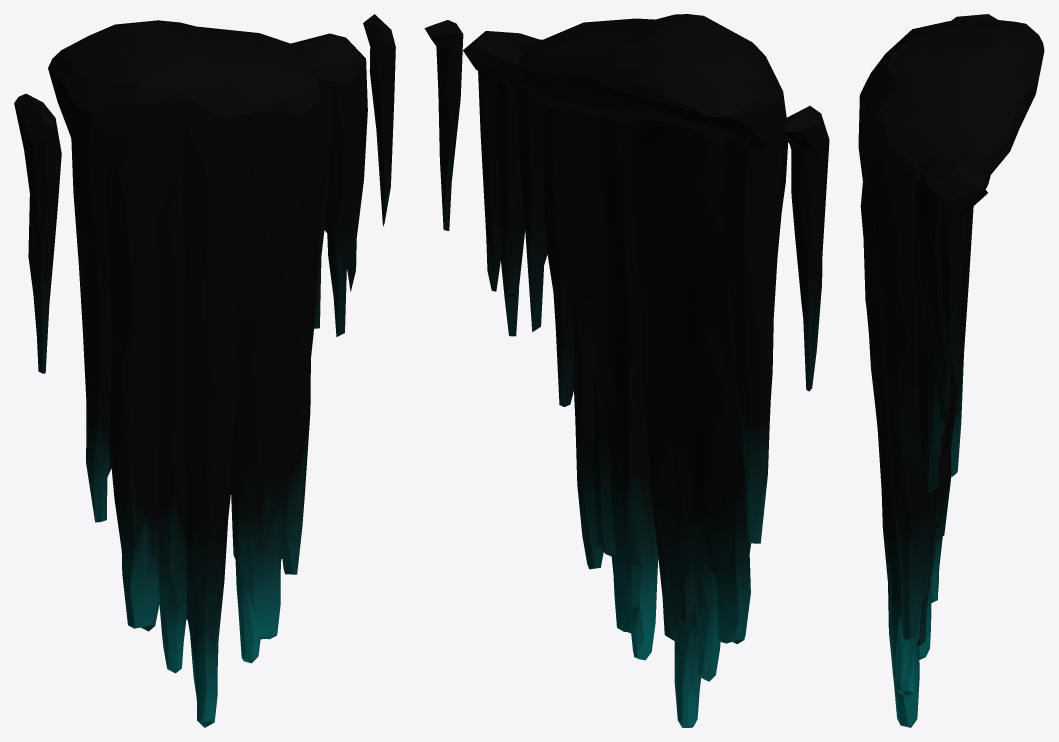
Rendered from Stalactite_2.fbx.
The picture shows the model from 3 angles, left to right: view 1: azimuth 30°, elevation 25°; view 2: azimuth 150°, elevation 25°; view 3: azimuth 270°, elevation 25°; orthographic projection. The views are drawn at different scales.
Parts seen in each view (by area): view 1: Stalactite_2_LOD0; view 2: Stalactite_2_LOD0; view 3: Stalactite_2_LOD0.
Part boxes in pixels (bbox=[...]): Stalactite_2_LOD0: bbox=[14, 14, 395, 727]; Stalactite_2_LOD0: bbox=[424, 14, 829, 727]; Stalactite_2_LOD0: bbox=[858, 14, 1044, 727].
Size of what is drawn, in the model's own units: 85.11 by 150 by 37.12.
